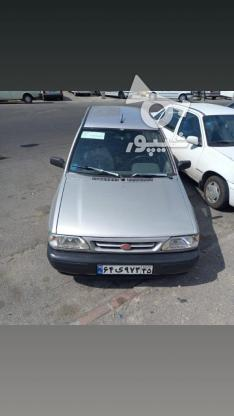car: (95, 263, 154, 277)
